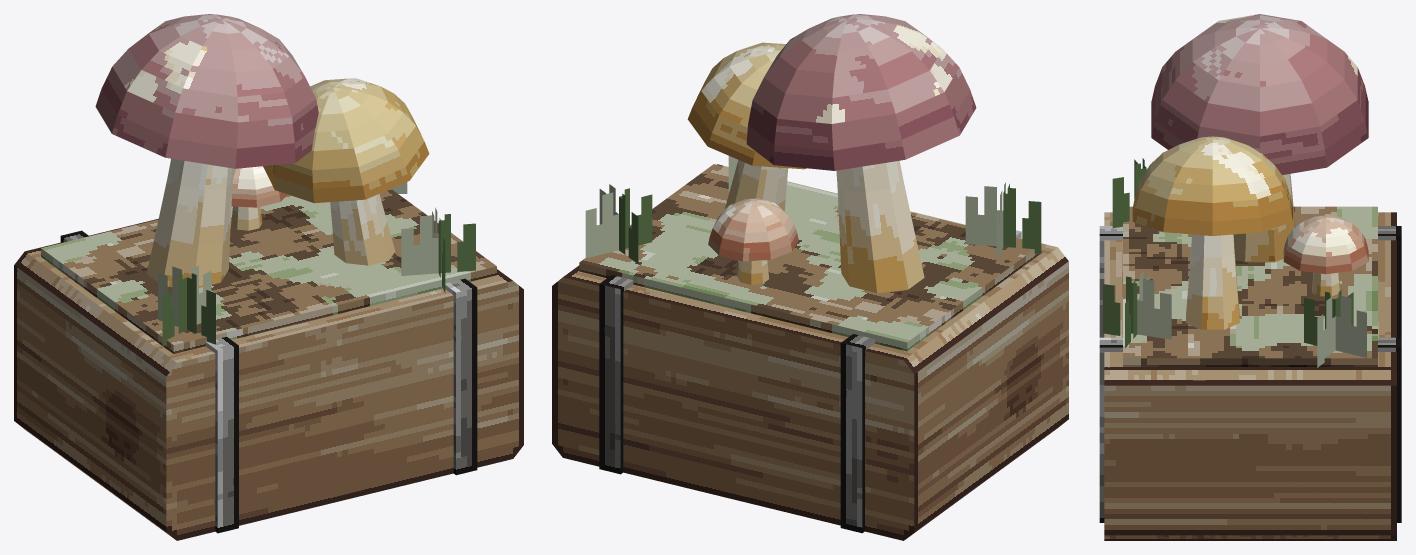
The model's file is mushpot.glb.
3 views of the same model, side by side, from view 1: azimuth 30°, elevation 25°; view 2: azimuth 150°, elevation 25°; view 3: azimuth 270°, elevation 25° (orthographic). The views are drawn at different scales.
Visible parts, largest first — view 1: trough, soil, cap0, cap1, stem0, band-1, band1, stem1, tuft2_1, tuft0_1, cap2, tuft0_0 (+1 smaller); view 2: trough, soil, cap0, stem0, cap1, band-1, band1, cap2, tuft0_0, tuft1_1, stem1, tuft1_0 (+1 smaller); view 3: trough, cap0, soil, cap1, stem1, cap2, tuft2_0, band1, tuft1_1, stem0, band-1, tuft1_0 (+3 smaller).
Boxes of the visible parts, x1=… form: trough: x1=14, y1=218, x2=523, y2=540; soil: x1=41, y1=189, x2=496, y2=353; cap0: x1=95, y1=14, x2=318, y2=168; cap1: x1=263, y1=78, x2=429, y2=203; stem0: x1=146, y1=158, x2=233, y2=287; band-1: x1=60, y1=230, x2=238, y2=533; band1: x1=445, y1=278, x2=477, y2=475; stem1: x1=330, y1=194, x2=395, y2=265; tuft2_1: x1=401, y1=214, x2=475, y2=275; tuft0_1: x1=158, y1=266, x2=215, y2=344; cap2: x1=231, y1=166, x2=287, y2=207; tuft0_0: x1=162, y1=265, x2=211, y2=346; trough: x1=552, y1=164, x2=1068, y2=540; soil: x1=579, y1=164, x2=1041, y2=351; cap0: x1=746, y1=14, x2=976, y2=170; stem0: x1=836, y1=160, x2=924, y2=293; cap1: x1=687, y1=42, x2=806, y2=169; band-1: x1=840, y1=230, x2=1021, y2=533; band1: x1=599, y1=275, x2=633, y2=474; cap2: x1=708, y1=198, x2=798, y2=261; tuft0_0: x1=965, y1=186, x2=1041, y2=253; tuft1_1: x1=585, y1=188, x2=652, y2=258; stem1: x1=725, y1=160, x2=788, y2=211; tuft1_0: x1=599, y1=184, x2=638, y2=263; trough: x1=1104, y1=212, x2=1396, y2=540; cap0: x1=1151, y1=14, x2=1368, y2=174; soil: x1=1123, y1=206, x2=1377, y2=366; cap1: x1=1132, y1=136, x2=1292, y2=235; stem1: x1=1185, y1=234, x2=1239, y2=329; cap2: x1=1283, y1=215, x2=1368, y2=274; tuft2_0: x1=1103, y1=276, x2=1171, y2=339; band1: x1=1099, y1=337, x2=1401, y2=522; tuft1_1: x1=1304, y1=291, x2=1366, y2=357; stem0: x1=1233, y1=174, x2=1295, y2=262; band-1: x1=1099, y1=226, x2=1401, y2=337; tuft1_0: x1=1317, y1=290, x2=1353, y2=367.
Size of the model in its own units: 0.525 by 0.6055 by 0.4029.
2 materials, 2 textured.
